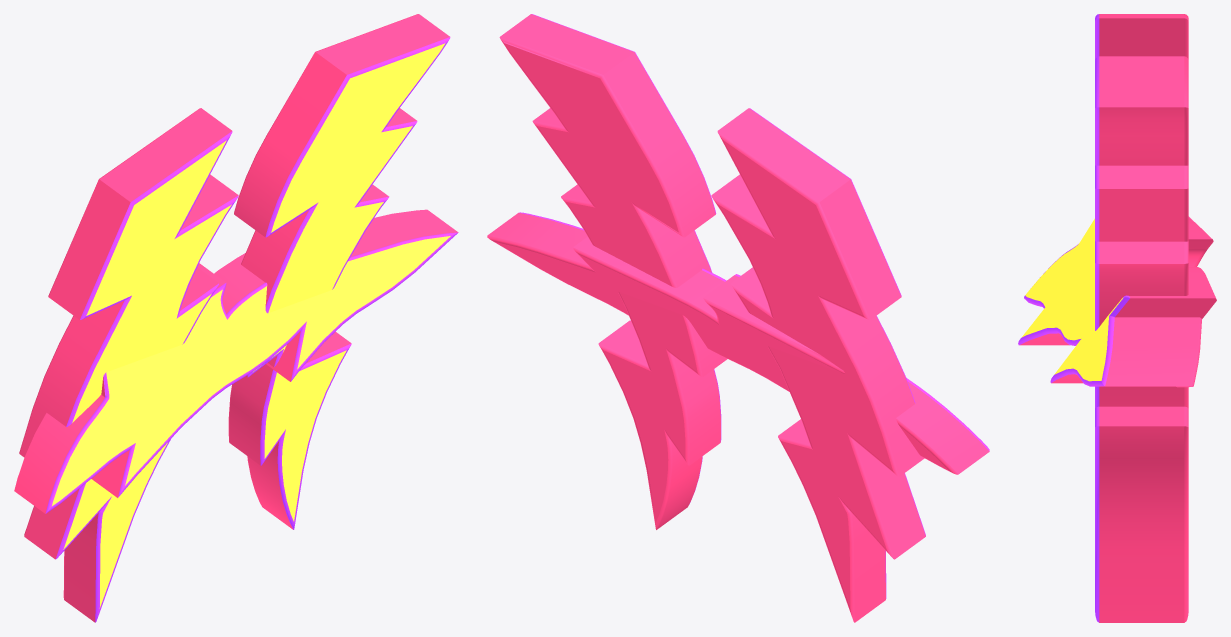
3 renders of one model, left to right at view 1: azimuth 30°, elevation 25°; view 2: azimuth 150°, elevation 25°; view 3: azimuth 270°, elevation 25°, orthographic. The views are drawn at different scales.
Visible parts, largest first — view 1: H01-H Gold, H01-H Pink, H02-H Gold, H02-H Pink, H01-edges, H02-edges; view 2: H01-H Pink, H02-H Pink, H01-edges; view 3: H01-H Pink, H02-H Pink, H02-H Gold, H01-edges, H02-edges.
Part boxes in pixels (x1,y1,x2,y2): H01-H Gold: (63, 43, 445, 608); H01-H Pink: (19, 14, 449, 622); H02-H Gold: (52, 236, 450, 505); H02-H Pink: (14, 209, 458, 513); H01-edges: (55, 37, 450, 622); H02-edges: (45, 232, 457, 513); H01-H Pink: (499, 14, 925, 622); H02-H Pink: (487, 213, 989, 474); H01-edges: (531, 14, 925, 598); H01-H Pink: (1099, 14, 1188, 622); H02-H Pink: (1020, 216, 1216, 387); H02-H Gold: (1021, 218, 1123, 381); H01-edges: (1095, 14, 1099, 622); H02-edges: (1018, 244, 1129, 386).
Bounding box in the file's own units: 1.63 × 1.76 × 0.4674.
